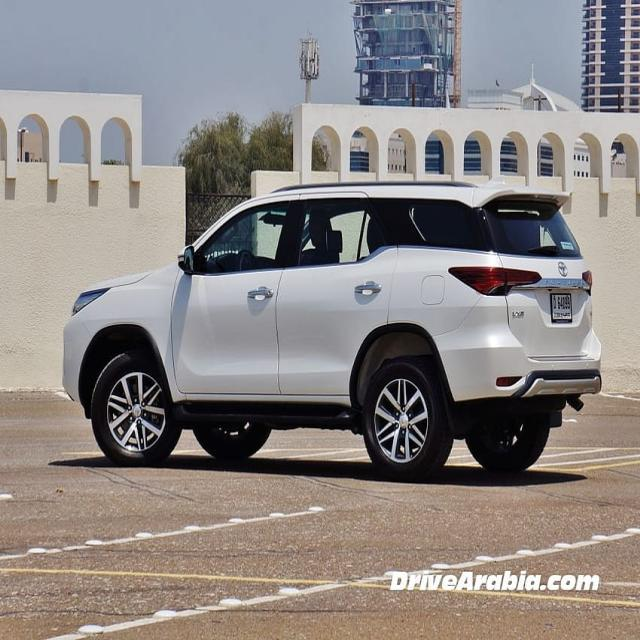light_vehicle: (61, 181, 605, 479)
